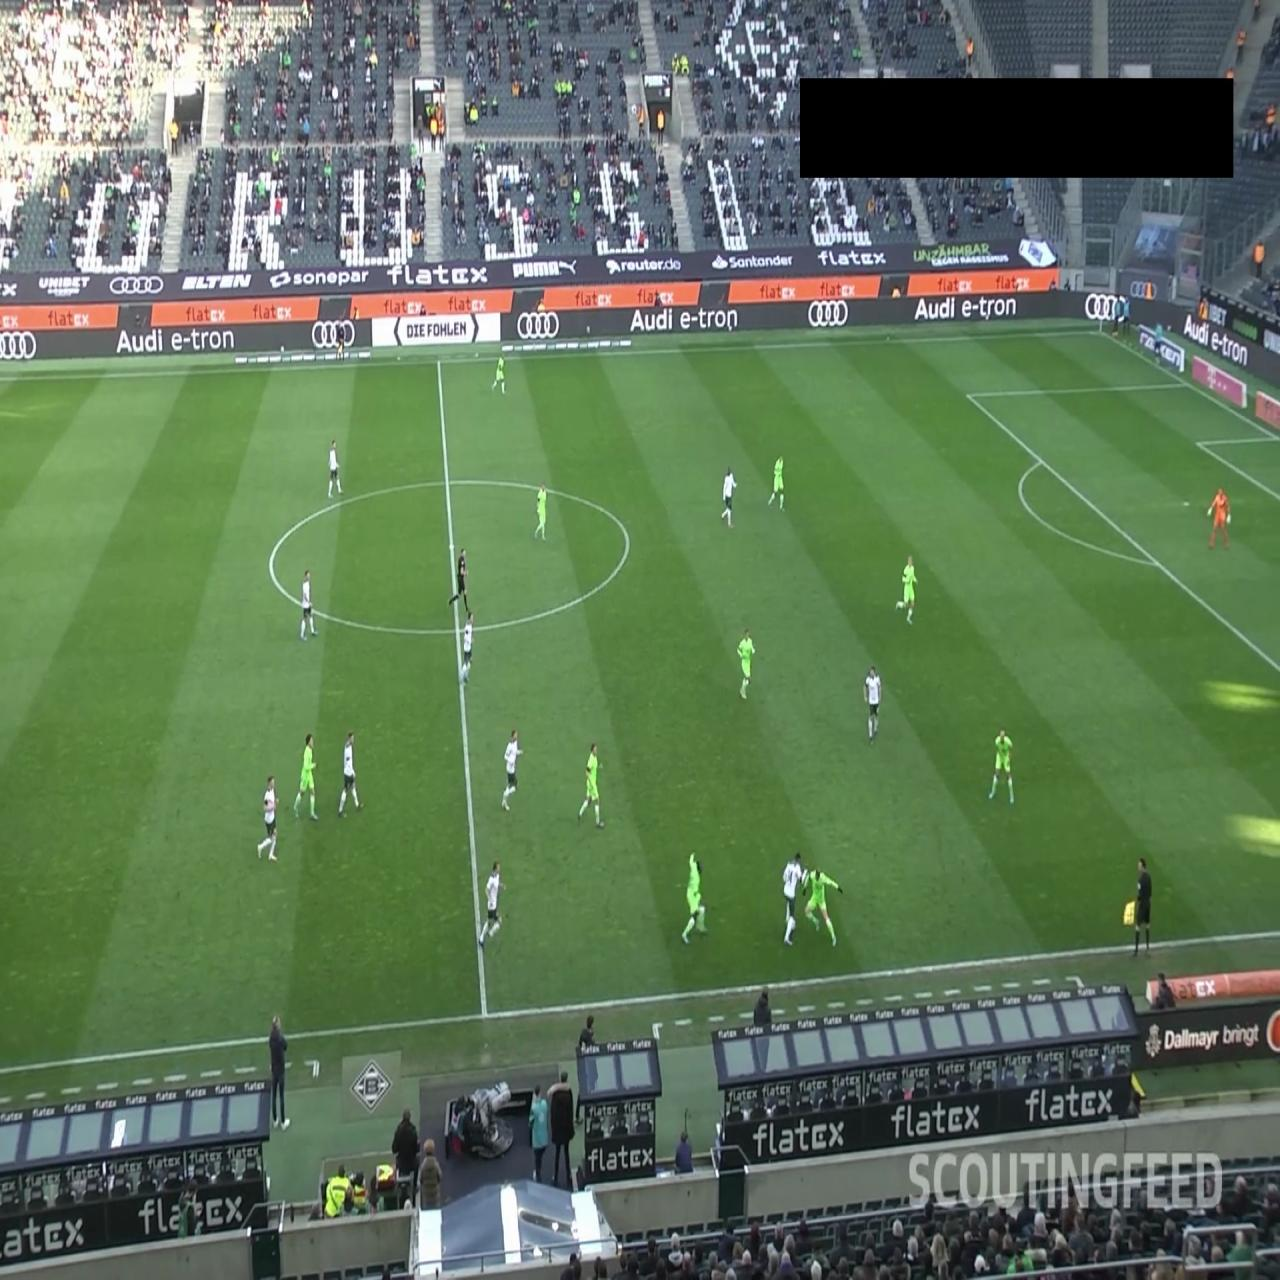ball: (788, 915, 797, 933)
goalkeeper: (1206, 488, 1230, 550)
player: (802, 866, 843, 946), (478, 859, 507, 948), (681, 852, 708, 945), (577, 741, 604, 828), (294, 732, 320, 822), (783, 851, 806, 946), (338, 730, 363, 817), (257, 774, 279, 862), (501, 728, 524, 812), (989, 726, 1014, 802), (895, 552, 918, 628), (864, 665, 881, 743), (300, 569, 318, 640), (737, 628, 755, 699), (720, 464, 738, 528), (460, 610, 474, 683), (767, 455, 785, 511), (328, 437, 343, 498), (533, 480, 547, 540), (491, 354, 507, 395)
referee: (1122, 857, 1153, 961), (448, 548, 470, 612), (336, 317, 346, 363)
